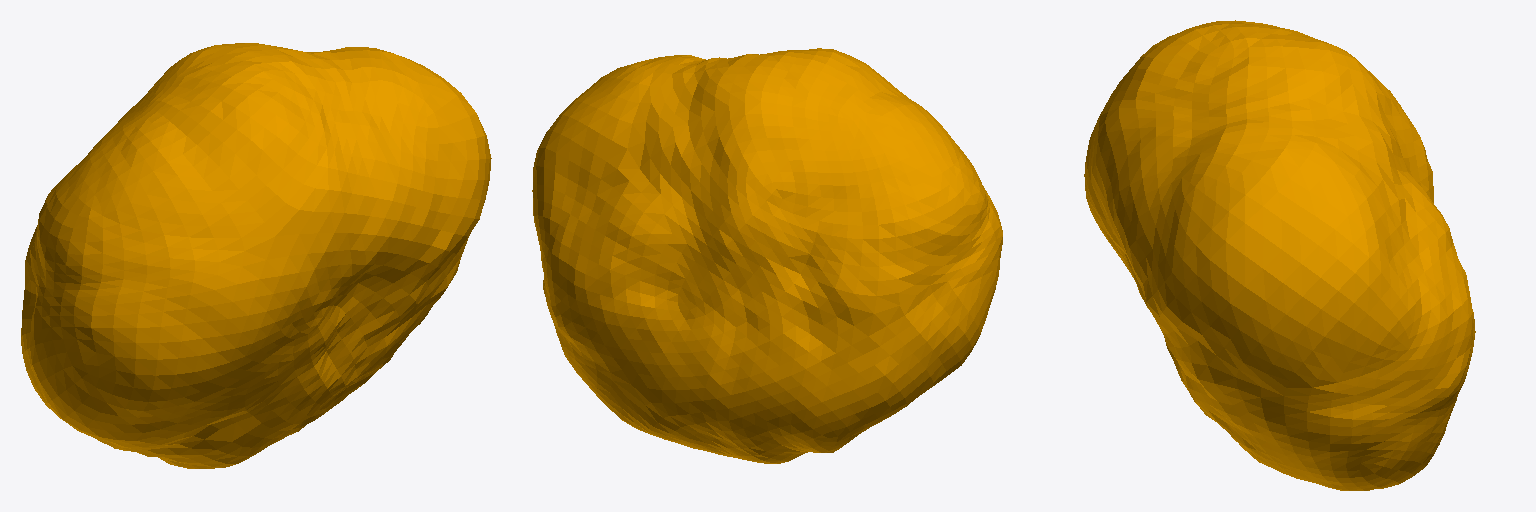
The robot description file, URDF, robot "rock":
<?xml version="1.0" ?>
<robot name="rock">
  <link name="rock">
    <inertial>
      <mass value="0.25"/>
      <origin rpy="0 0 0" xyz="0 0 0"/>
      <inertia ixx="0.00025" ixy="0" ixz="0" iyy="0.00025" iyz="0" izz="0.00025"/>
    </inertial>
    <collision name="rock_collision">
      <origin rpy="0 0 0" xyz="0 0 0"/>
      <geometry>
        <mesh filename="package://rocks/visual/2.dae" scale="1 1 1"/>
      </geometry>
    </collision>
    <visual name="rock_visual">
      <origin rpy="0 0 0" xyz="0 0 0"/>
      <geometry>
        <mesh filename="package://rocks/visual/2.dae" scale="1 1 1"/>
      </geometry>
    </visual>
  </link>
</robot>

--- Facts derived from the render (not from the file) ---
The picture shows the robot from 3 angles, left to right: view 1: azimuth 30°, elevation 25°; view 2: azimuth 150°, elevation 25°; view 3: azimuth 270°, elevation 25°; orthographic projection.
Robot: rock — 1 links, 0 joints (none); root link rock; default pose: all joints at 0.
Visible links, largest first — view 1: rock; view 2: rock; view 3: rock.
Boxes of the visible links, x1=… form: rock: x1=21, y1=43, x2=491, y2=468; rock: x1=532, y1=48, x2=1002, y2=463; rock: x1=1084, y1=20, x2=1475, y2=490.
Bounding box of the posed robot: 0.0922 × 0.0663 × 0.0807 m (x, y, z).
1 mesh visuals loaded from 1 distinct referenced files (1 Collada DAE).